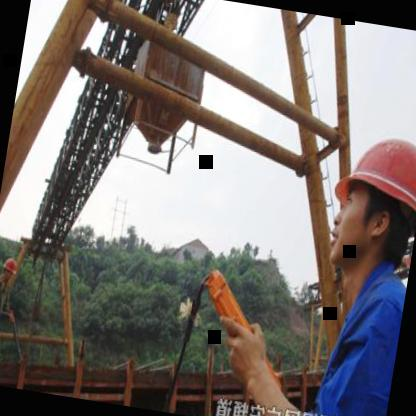helmet: (315, 107, 416, 290), (0, 256, 20, 287)
